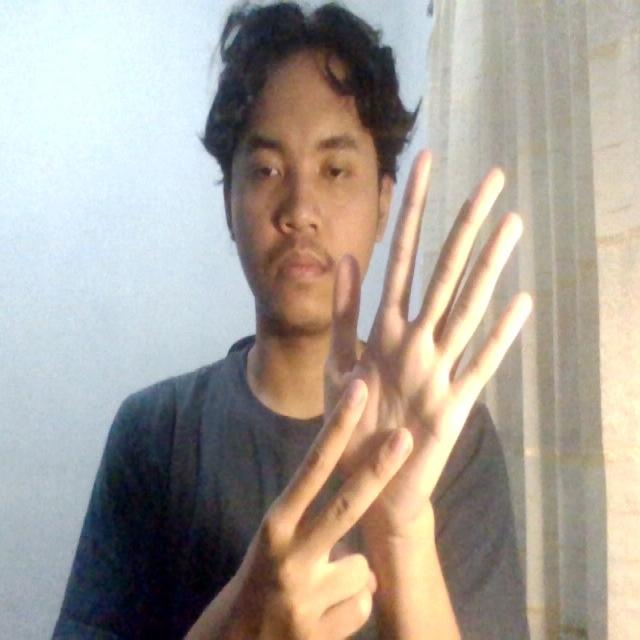IloveYou: (233, 138, 542, 626)
